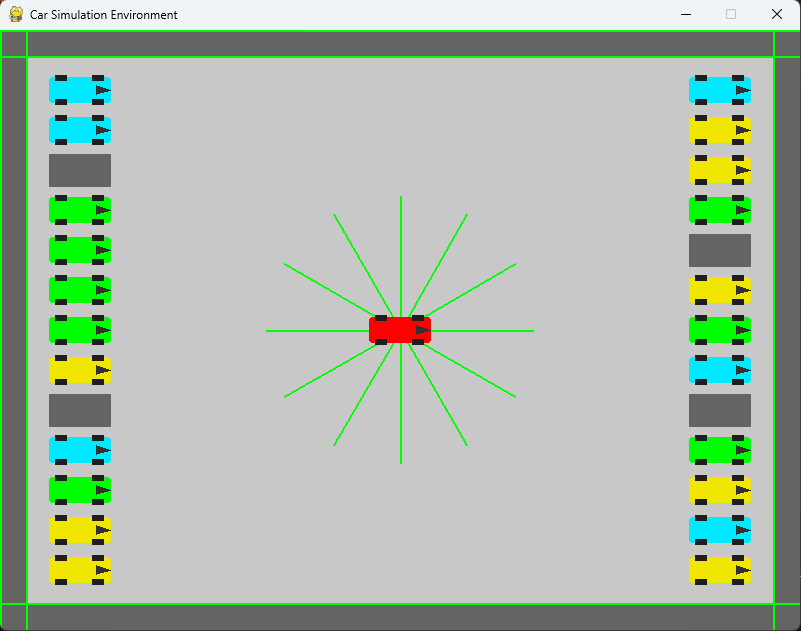ControlledCar: (363, 307, 436, 351)
ParkedCar: (44, 64, 114, 106), (47, 232, 118, 270), (685, 112, 756, 150), (684, 312, 755, 350), (46, 273, 116, 311), (679, 514, 755, 549), (48, 351, 117, 387), (685, 70, 754, 106), (680, 154, 755, 187), (46, 510, 112, 547), (684, 352, 755, 386), (687, 192, 755, 227), (690, 554, 756, 590), (48, 112, 112, 149), (47, 193, 114, 228), (46, 554, 117, 587), (50, 312, 115, 348), (49, 432, 114, 466), (684, 474, 754, 505), (684, 275, 753, 306), (687, 433, 751, 466), (47, 475, 111, 505)
ParkingSpot: (683, 225, 758, 272), (40, 153, 121, 187), (686, 392, 758, 429), (45, 393, 114, 427)
